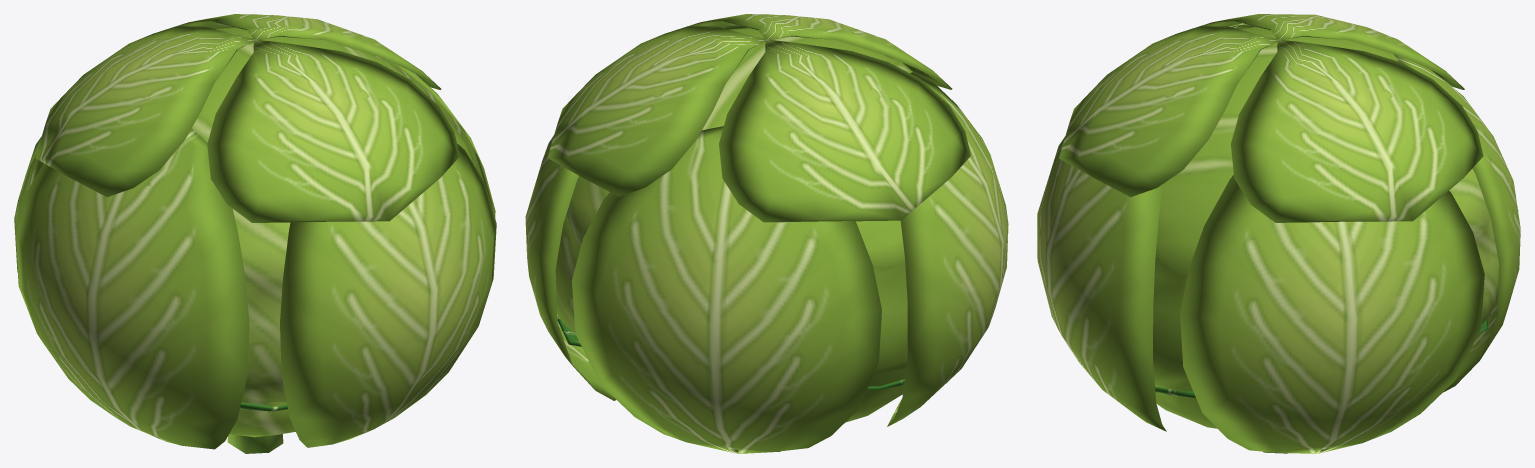
Rendered from NP_Cabbage_Harvest_LOD1.fbx.
3 renders of one model, left to right at view 1: azimuth 30°, elevation 25°; view 2: azimuth 150°, elevation 25°; view 3: azimuth 270°, elevation 25°, orthographic.
Parts seen in each view (by area): view 1: NP_Cabbage_Harvest; view 2: NP_Cabbage_Harvest; view 3: NP_Cabbage_Harvest.
Part boxes in pixels (<box>): NP_Cabbage_Harvest: <box>14,14,496,453</box>; NP_Cabbage_Harvest: <box>525,14,1008,453</box>; NP_Cabbage_Harvest: <box>1037,14,1520,453</box>.
Size of the model in its own units: 59.11 by 54.33 by 59.11.
